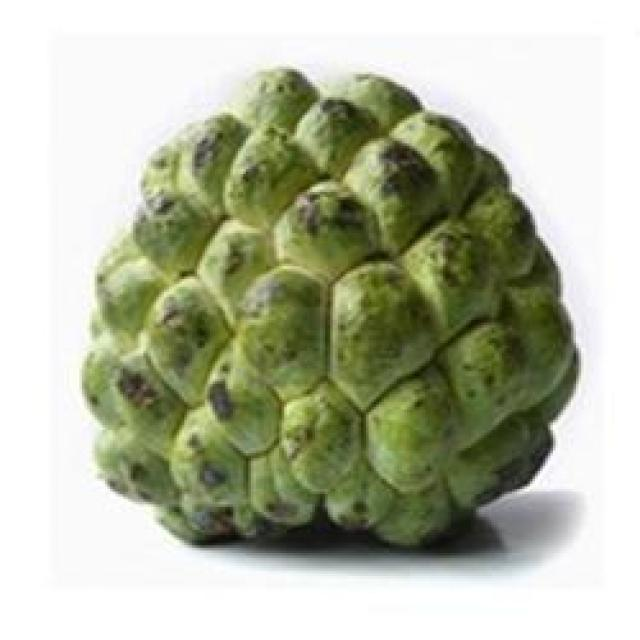apple: (66, 64, 584, 561)
